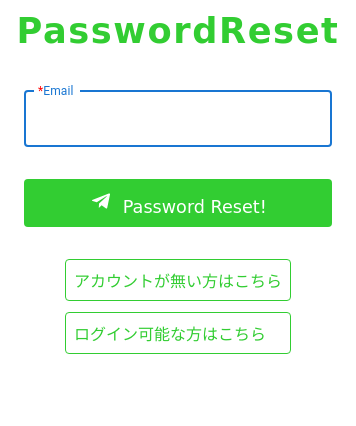
Test: ResetPasswordコンポーネント › Form欄 › Form入力欄 › Apiエラーメッセージ
The width and height of the screenshot is (356, 426).
Note: 各項目に値を入力
Type "test@example.com" into the field with test id "emailArea" at {"x": 178, "y": 119}, box [24,91,332,147]
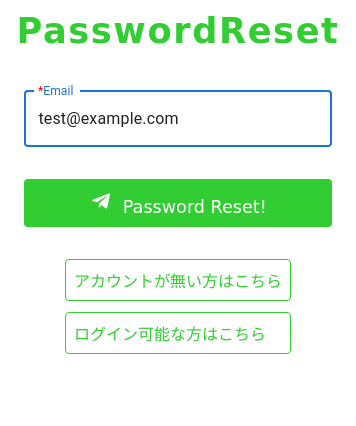
Note: ユーザが送信ボタンをクリック
Click the button with test id "formSubmit" at {"x": 178, "y": 203}, box [24,179,332,227]
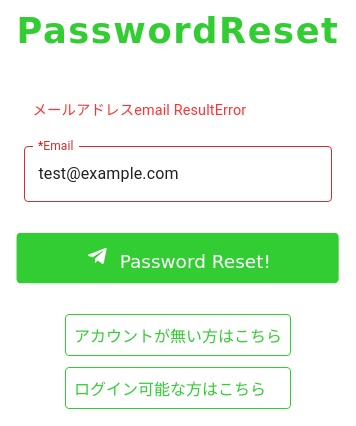
Expected: the text with test id "emailResultError" is shown, [32,102,246,119]
